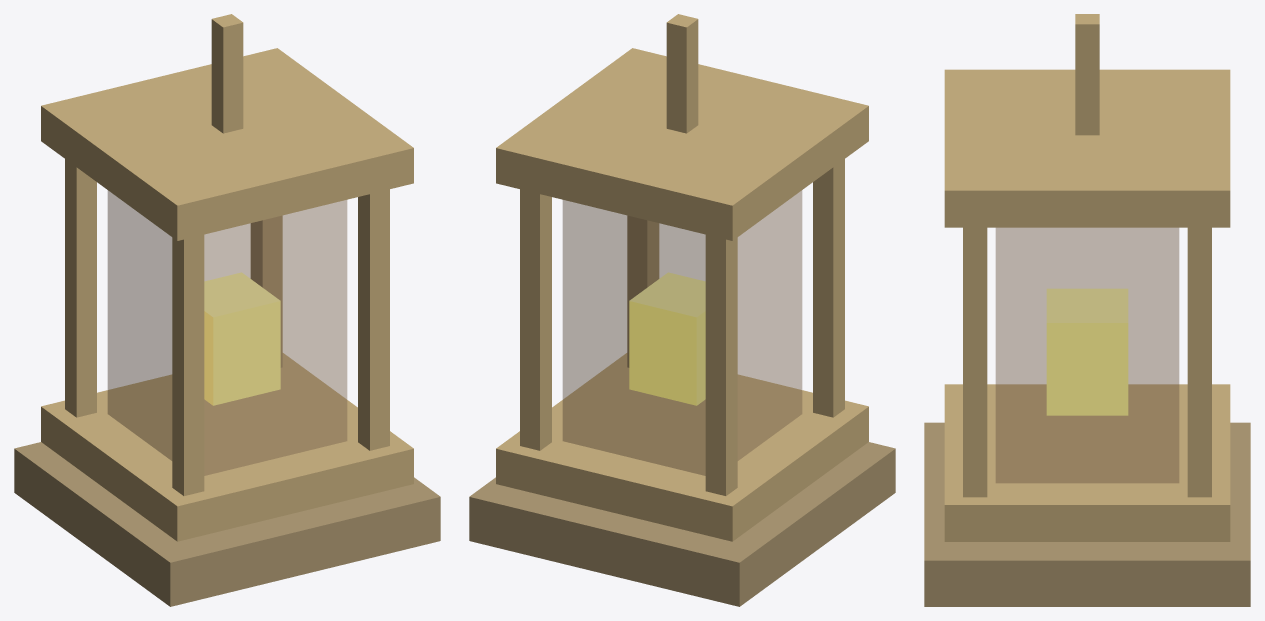
Rendered from citizen-lantern.gltf.
3 renders of one model, left to right at view 1: azimuth 30°, elevation 25°; view 2: azimuth 150°, elevation 25°; view 3: azimuth 270°, elevation 25°, orthographic. The views are drawn at different scales.
Parts seen in each view (by area): view 1: Cage, Glass, BaseRing, Ember; view 2: Cage, Glass, BaseRing, Ember; view 3: Cage, Glass, BaseRing, Ember.
Boxes of the visible parts, left/top/right/bottom form: Cage: left=41, top=14, right=413, bottom=541; Glass: left=107, top=190, right=347, bottom=475; BaseRing: left=14, top=442, right=440, bottom=606; Ember: left=204, top=272, right=280, bottom=405; Cage: left=496, top=14, right=868, bottom=541; Glass: left=562, top=190, right=802, bottom=475; BaseRing: left=469, top=442, right=895, bottom=606; Ember: left=629, top=272, right=705, bottom=405; Cage: left=944, top=14, right=1230, bottom=541; Glass: left=995, top=227, right=1179, bottom=483; BaseRing: left=924, top=422, right=1250, bottom=606; Ember: left=1046, top=288, right=1128, bottom=415.
Bounding box in the file's own units: 0.16 × 0.2805 × 0.16.
